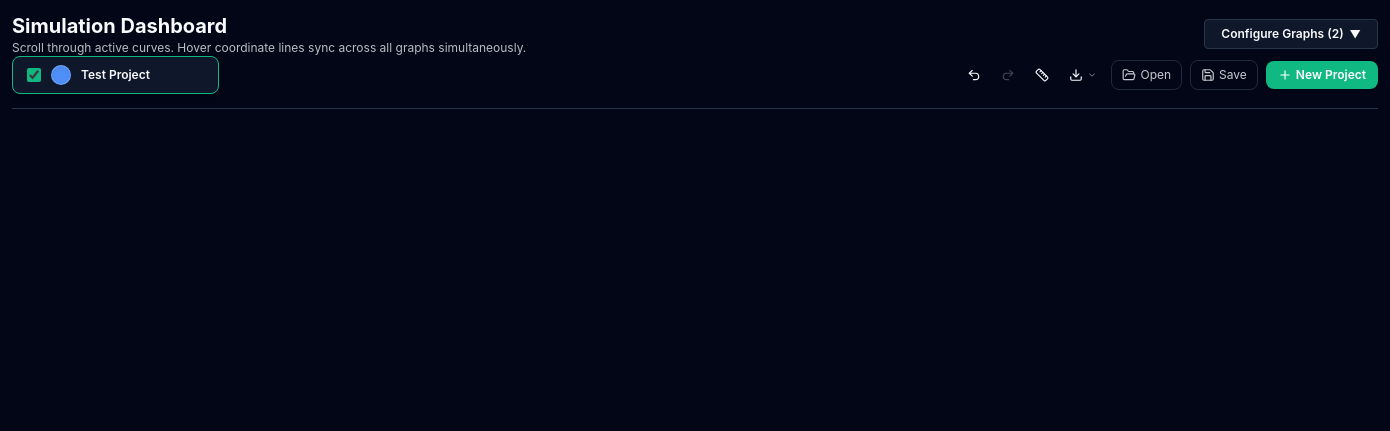
Test: Toolbar › offers every selectable curve once the picker is open
The image size is (1390, 431).
What coordinates should you click on to do the following:
click the button "Configure Graphs (2) ▼"
I would click on:
 (1291, 34)
Its box is [1204,19,1378,49].
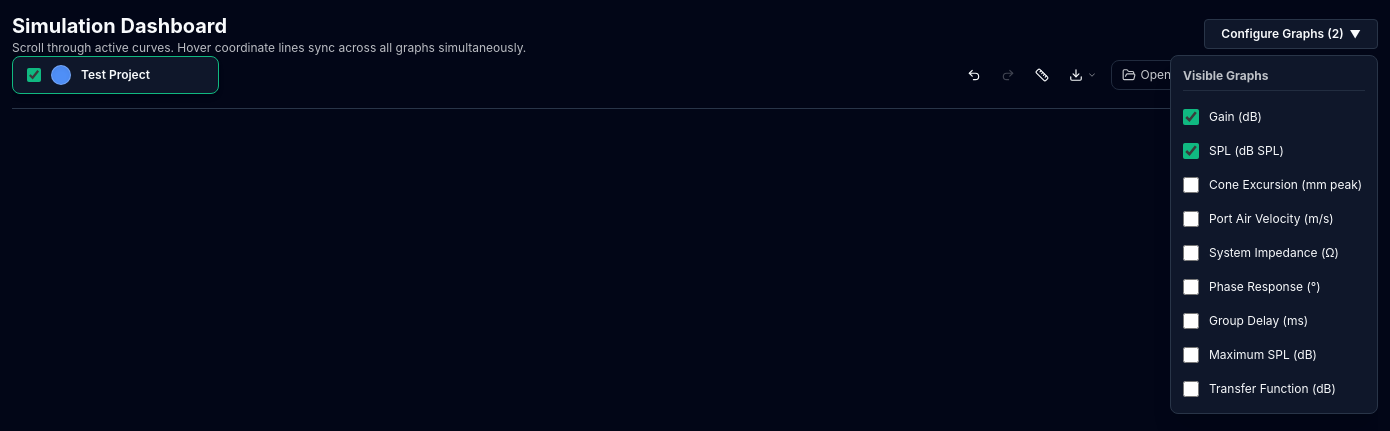
Now the text "Gain (dB)" is shown once, box [1209,109,1262,125]
Now the text "SPL (dB SPL)" is shown once, box [1209,143,1284,159]
Now the text "Cone Excursion (mm peak)" is shown once, box [1209,177,1362,193]
